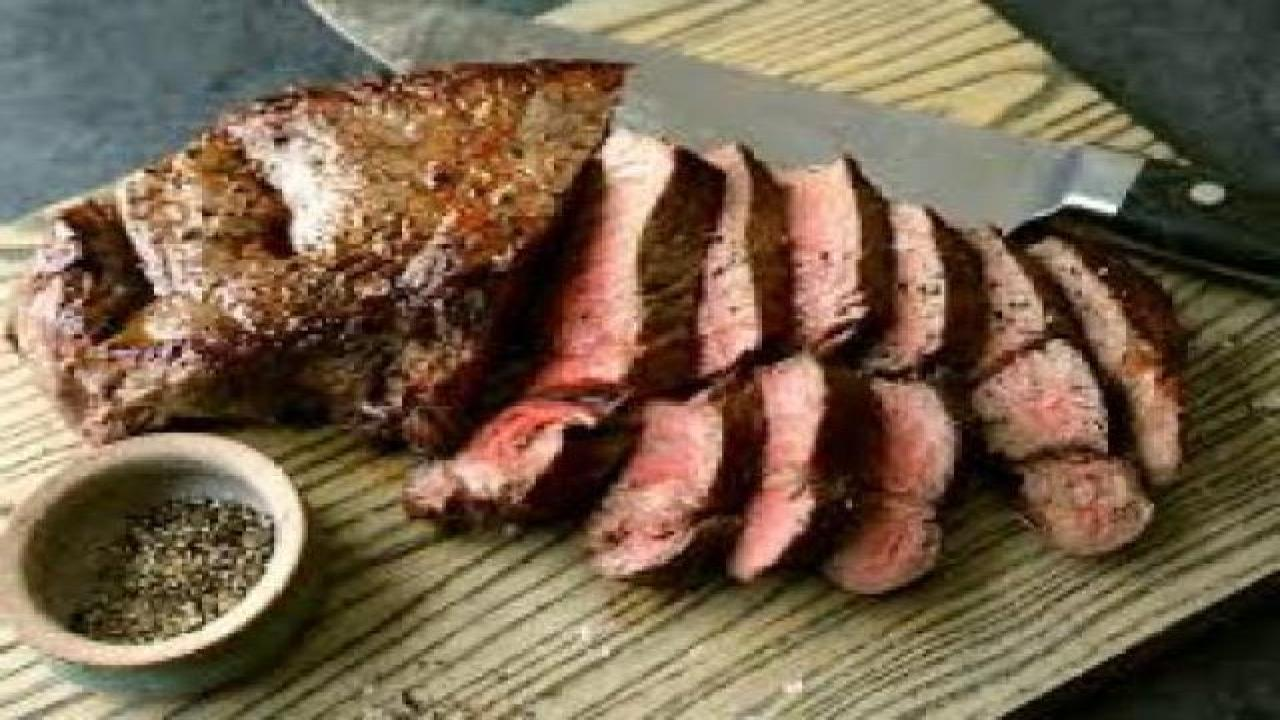Carne: (520, 104, 1228, 608)
